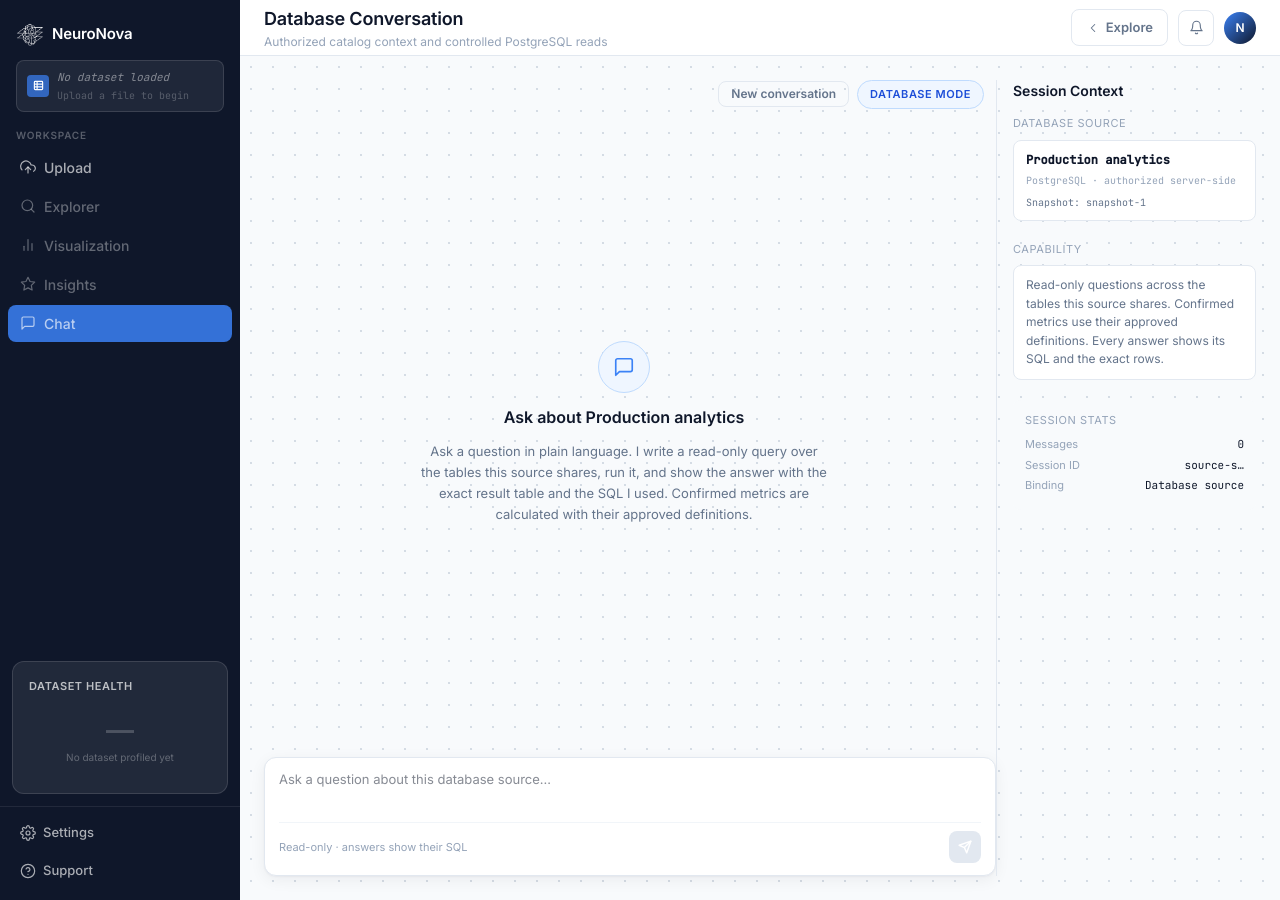
Scenario: aborts a source stream on explicit cancellation without replaying the message
Type "Count rows" into the text box with placeholder "Ask a question about this database source…". click: (630, 790)
box: top-left (279, 770), bottom-right (981, 809)
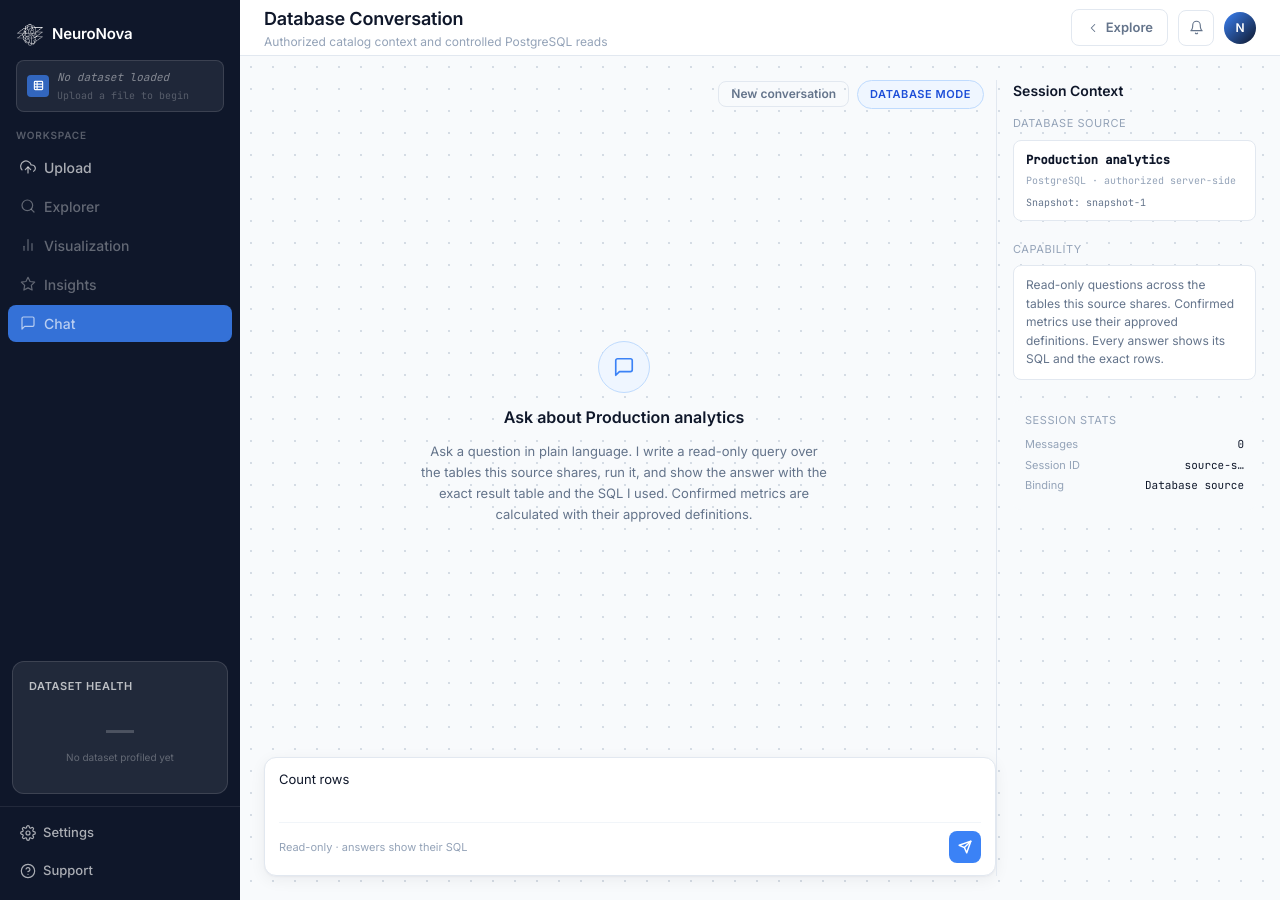
Click the button named "Send database question". click: click(965, 847)
box: top-left (949, 831), bottom-right (981, 863)
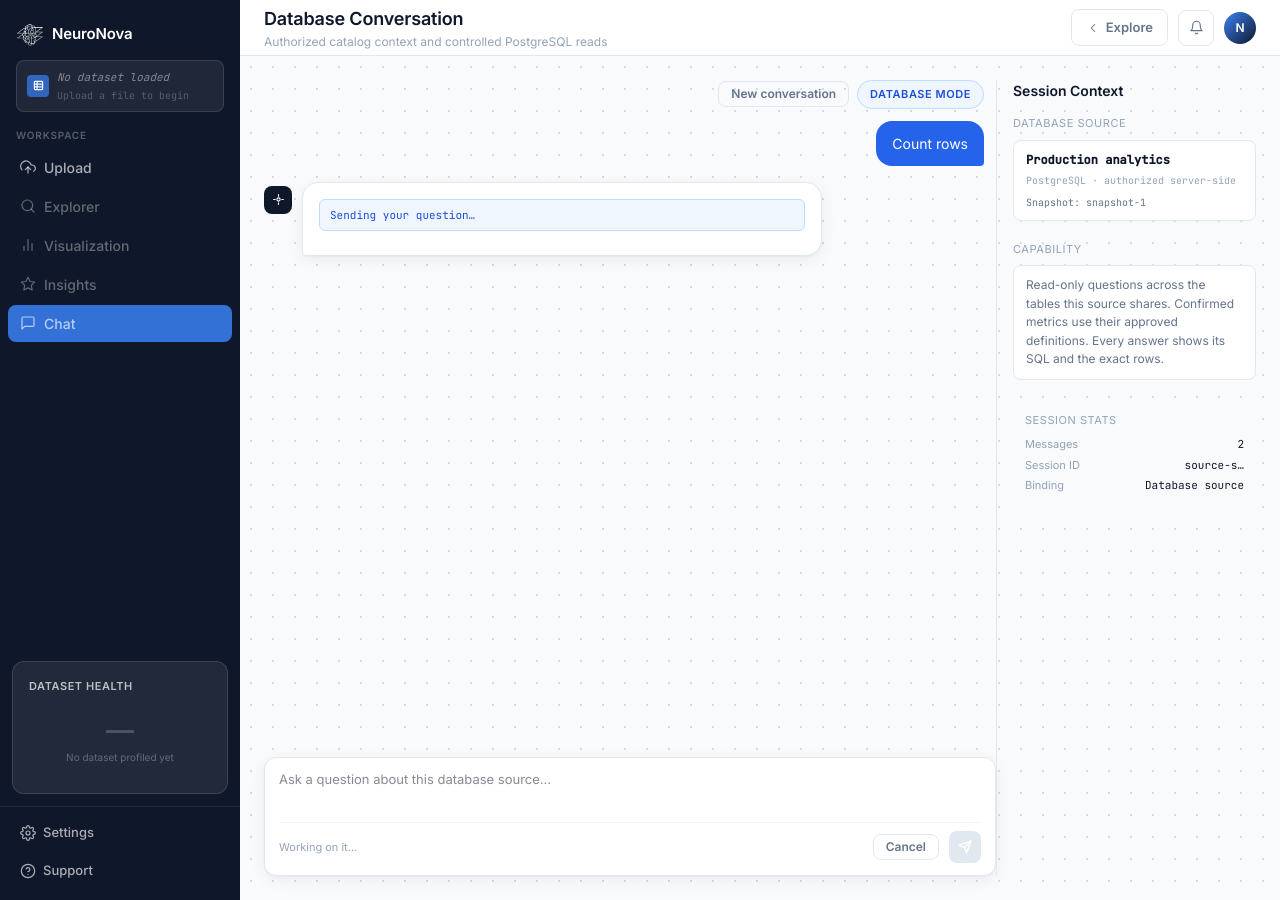
Expected: the button "Cancel" is shown
Click the button "Cancel". click: click(906, 847)
box: top-left (873, 834), bottom-right (939, 860)
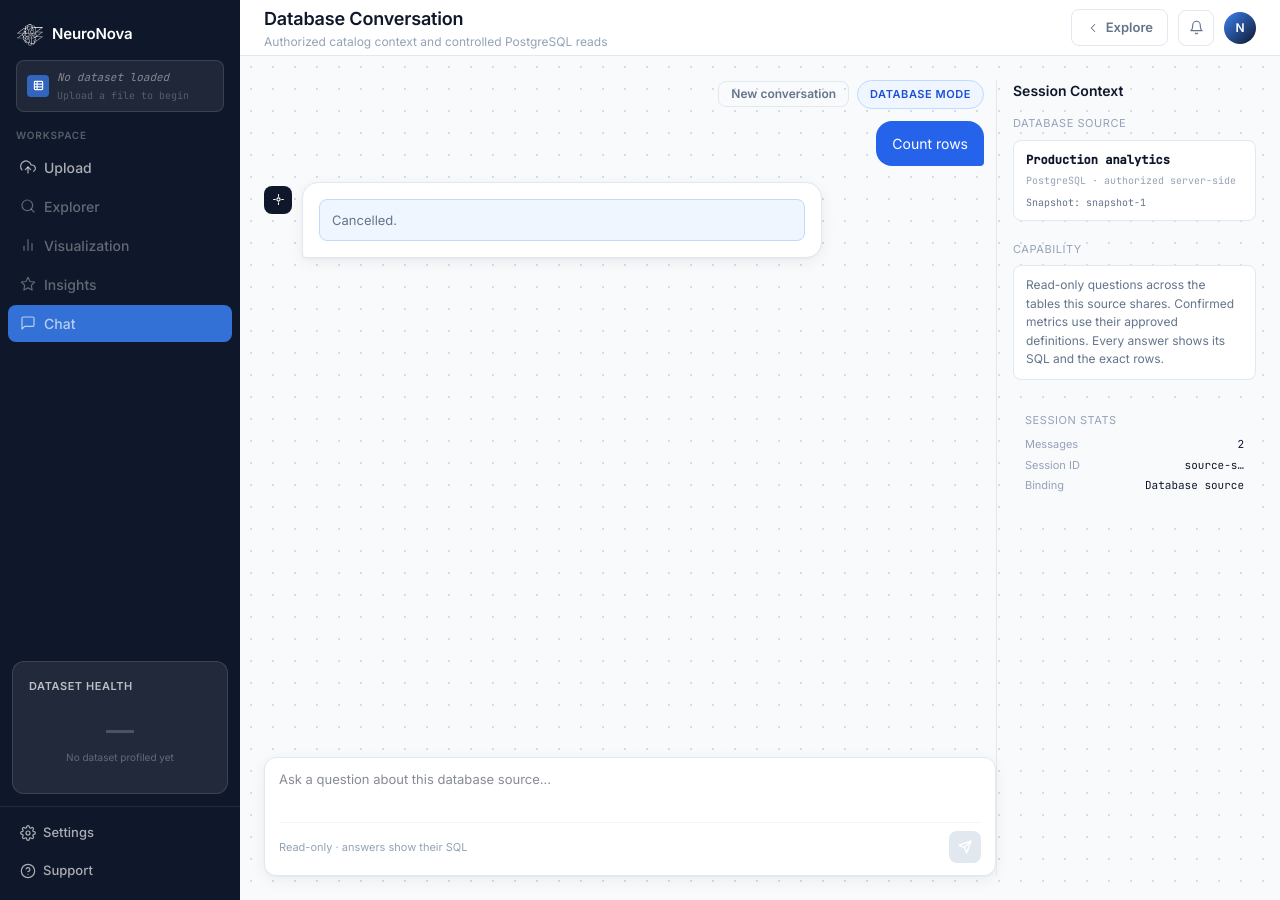
Expected: the text "Cancelled." is shown, top-left (319, 198), bottom-right (805, 241)
